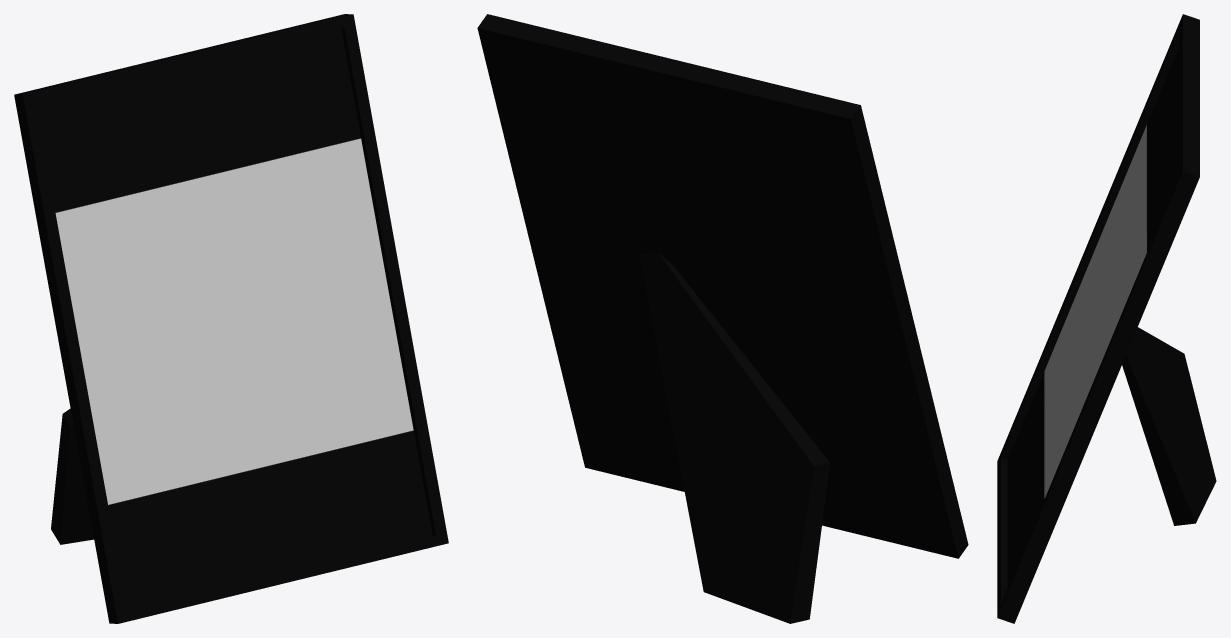
Rendered from image3.fbx.
3 views of the same model, side by side, from view 1: azimuth 30°, elevation 25°; view 2: azimuth 150°, elevation 25°; view 3: azimuth 270°, elevation 25° (orthographic). The views are drawn at different scales.
Parts seen in each view (by area): view 1: Cube.002, Cube.003; view 2: Cube.002, Cube.003; view 3: Cube.002, Cube.003.
Part boxes in pixels (bbox=[...]): Cube.002: bbox=[14, 14, 448, 623]; Cube.003: bbox=[51, 408, 94, 544]; Cube.002: bbox=[477, 14, 968, 558]; Cube.003: bbox=[639, 253, 829, 623]; Cube.002: bbox=[997, 14, 1199, 623]; Cube.003: bbox=[1122, 327, 1216, 525].
Bounding box in the file's own units: 200 × 269 × 118.
2 materials, 1 textured.
